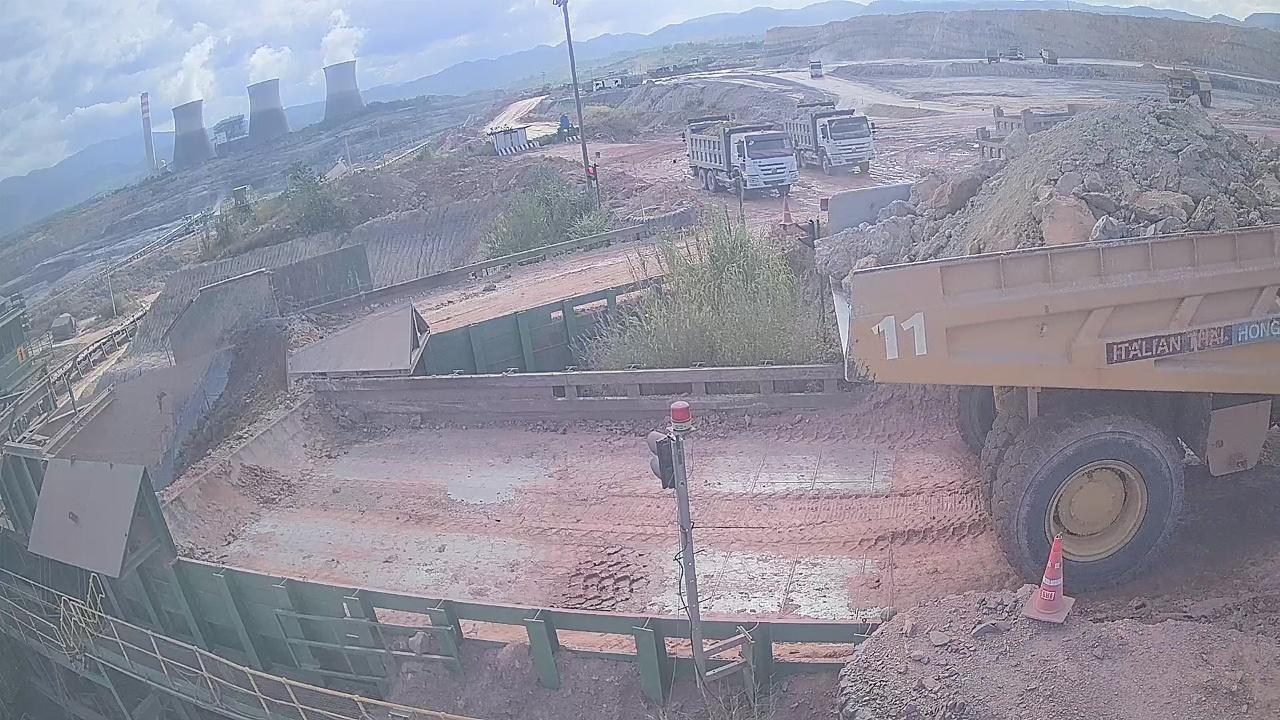company: (1097, 318, 1280, 367)
full_load: (840, 100, 1272, 274)
mining_truck: (830, 84, 1278, 588)
tail_number: (870, 309, 933, 366)
